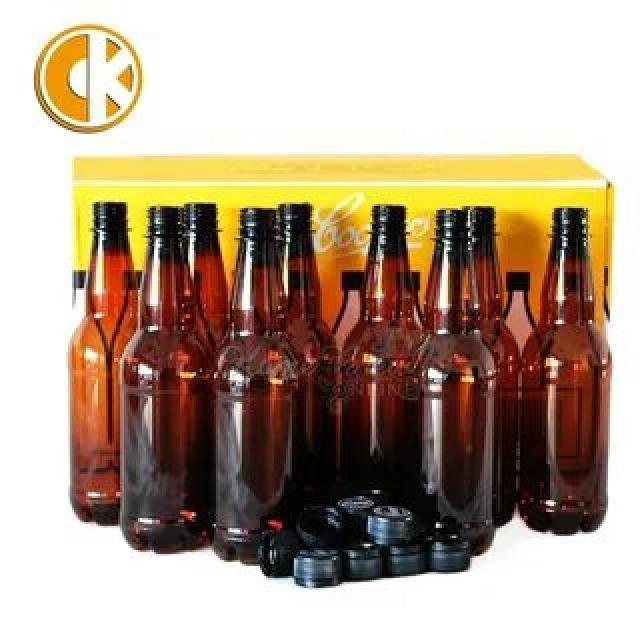brown: (122, 207, 215, 550), (520, 206, 613, 536), (213, 208, 295, 565), (414, 208, 494, 557), (70, 202, 123, 523)
